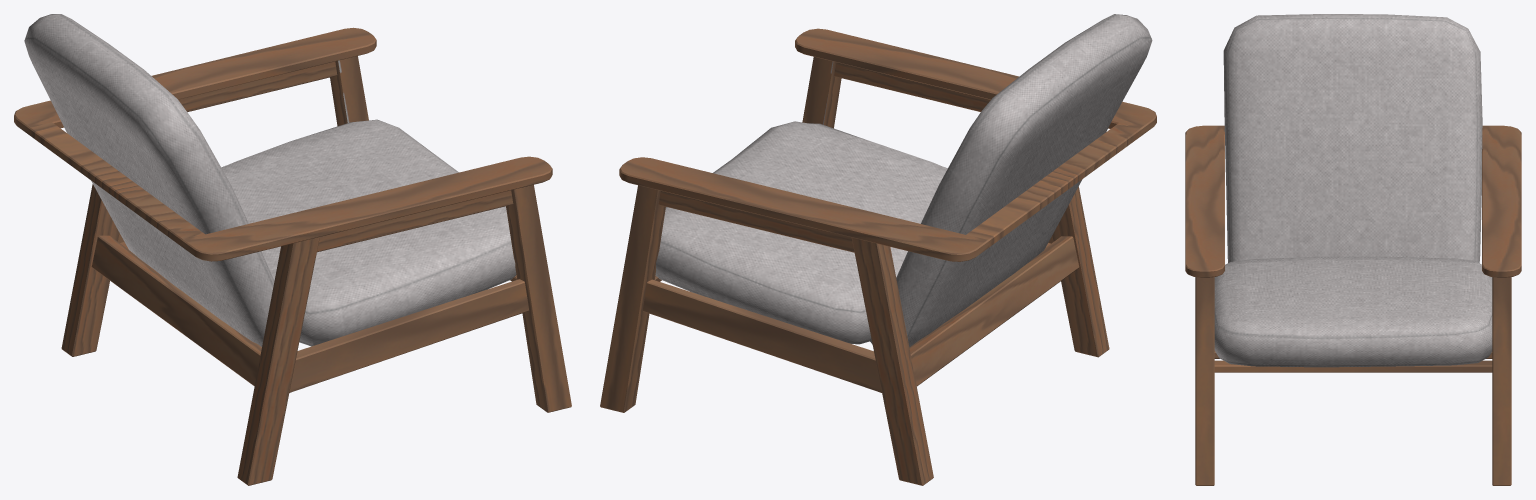
Rendered from chair4.glb.
The picture shows the model from 3 angles, left to right: view 1: azimuth 30°, elevation 25°; view 2: azimuth 150°, elevation 25°; view 3: azimuth 270°, elevation 25°; orthographic projection. The views are drawn at different scales.
Parts seen in each view (by area): view 1: Cube.011; view 2: Cube.011; view 3: Cube.011.
Part boxes in pixels (left/top/right/bottom): Cube.011: left=14, top=14, right=571, bottom=485; Cube.011: left=600, top=14, right=1156, bottom=485; Cube.011: left=1185, top=14, right=1521, bottom=485.
Bounding box in the file's own units: 0.9124 × 0.8318 × 0.7986.
Materials: 1 (1 with a texture image).
